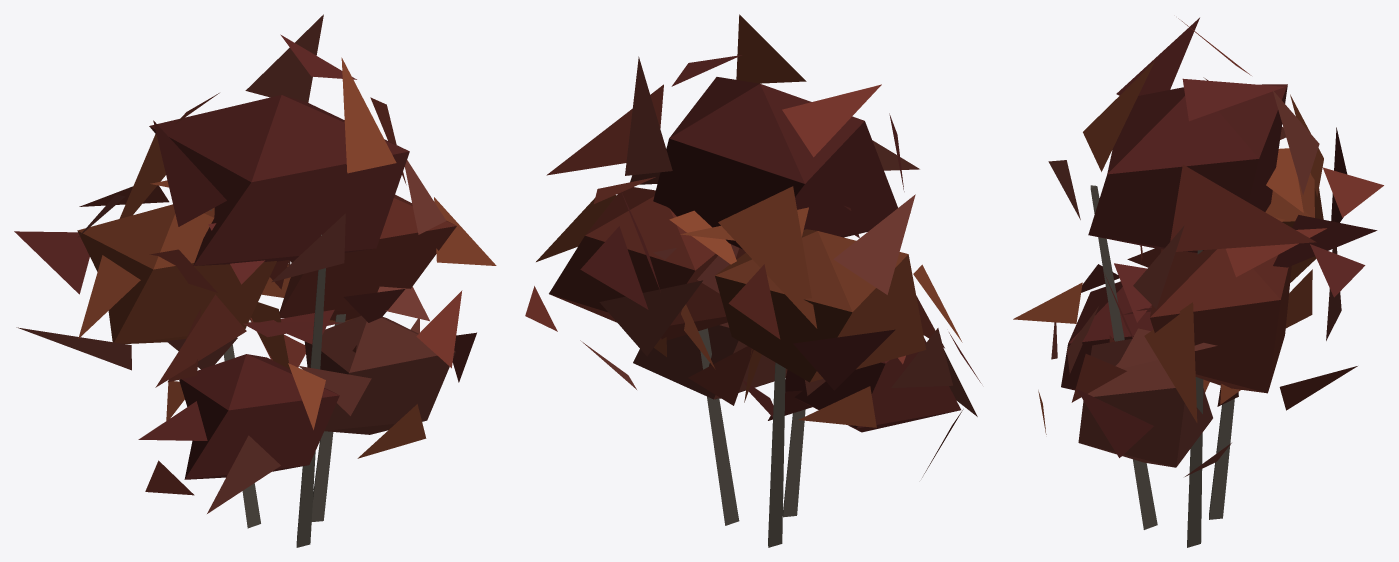
File: chokecherry-lite.glb
3 views of the same model, side by side, from view 1: azimuth 30°, elevation 25°; view 2: azimuth 150°, elevation 25°; view 3: azimuth 270°, elevation 25° (orthographic). The views are drawn at different scales.
Parts seen in each view (by area): view 1: chokecherry-lite / foliage, chokecherry-lite / wood; view 2: chokecherry-lite / foliage, chokecherry-lite / wood; view 3: chokecherry-lite / foliage, chokecherry-lite / wood.
Boxes of the visible parts, x1,y1,x2,y2 form: chokecherry-lite / foliage: (14,14,496,513); chokecherry-lite / wood: (210,209,345,547); chokecherry-lite / foliage: (525,14,981,477); chokecherry-lite / wood: (698,328,805,547); chokecherry-lite / foliage: (1013,17,1383,476); chokecherry-lite / wood: (1090,185,1234,547).
Size of the model in its own units: 2.52 by 2.59 by 1.79.
